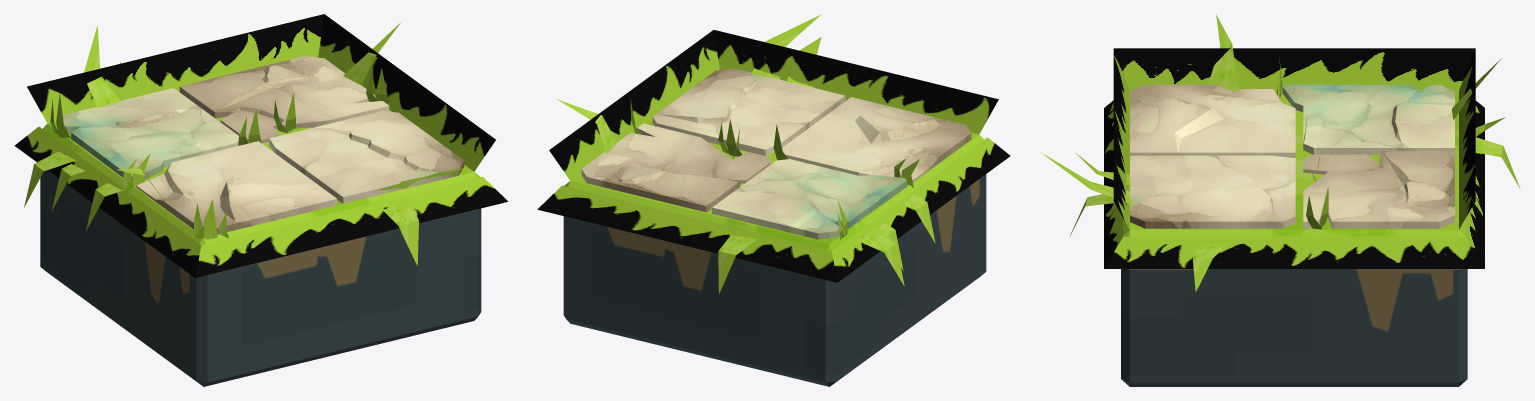
File: tilegrass003.glb
3 views of the same model, side by side, from view 1: azimuth 30°, elevation 25°; view 2: azimuth 150°, elevation 25°; view 3: azimuth 270°, elevation 25° (orthographic). The views are drawn at different scales.
Visible parts, largest first — view 1: tile_grass_03; view 2: tile_grass_03; view 3: tile_grass_03.
Part boxes in pixels (x1,y1,x2,y2): tile_grass_03: (14, 14, 507, 386); tile_grass_03: (537, 14, 1010, 386); tile_grass_03: (1040, 14, 1520, 386).
Size of the model in its own units: 1.3 by 0.7231 by 1.39.
Materials: 2 (2 with a texture image).
